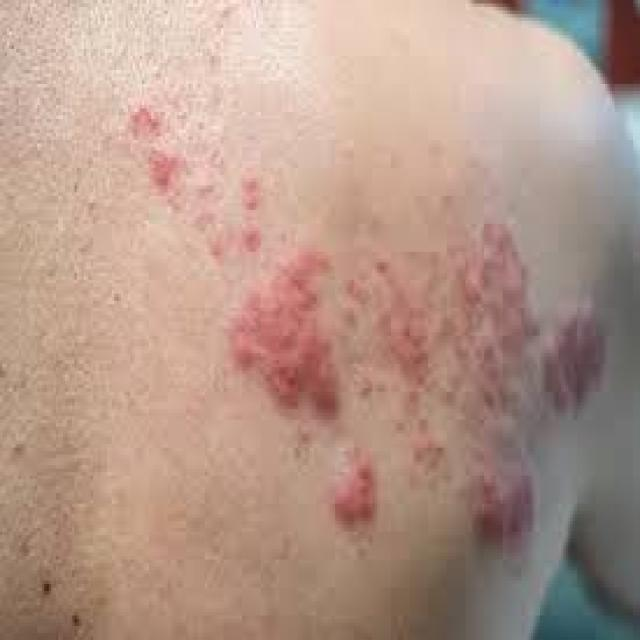Shingles: (123, 99, 602, 552)
